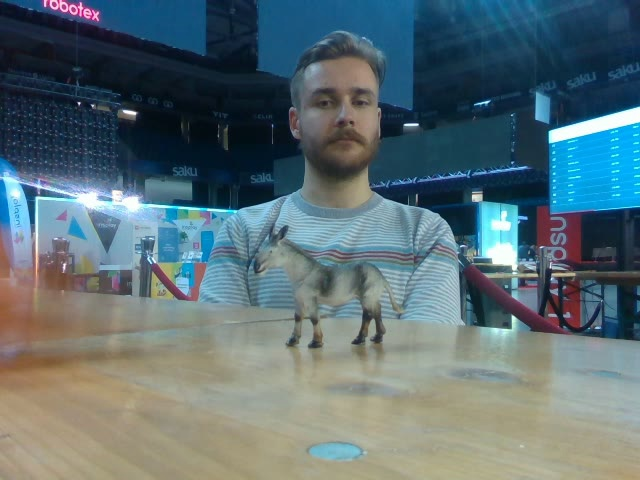toy: (253, 221, 399, 347)
